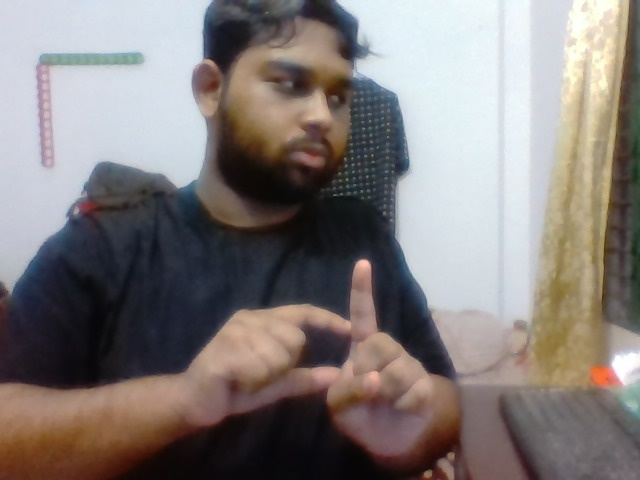D: (179, 245, 440, 451)
